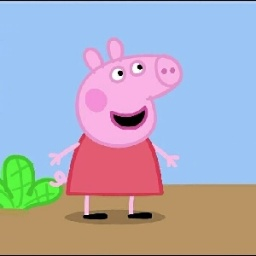Peppa: (51, 37, 183, 224)
